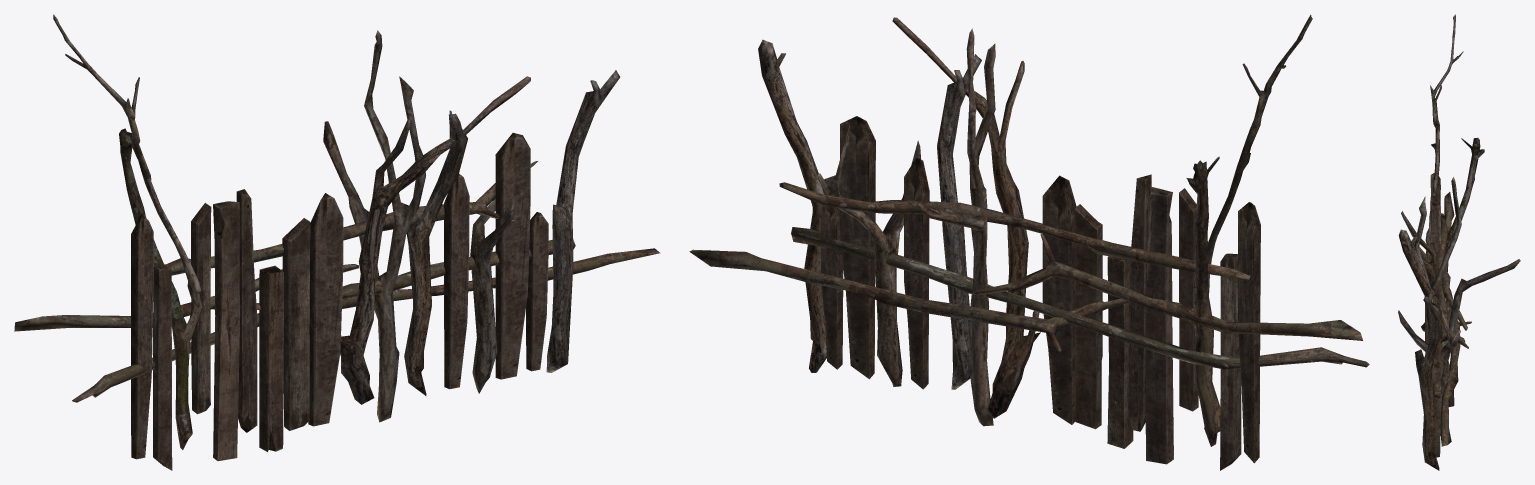
The model's file is P_TowerFence02.FBX.
3 views of the same model, side by side, from view 1: azimuth 30°, elevation 25°; view 2: azimuth 150°, elevation 25°; view 3: azimuth 270°, elevation 25° (orthographic). The views are drawn at different scales.
Parts seen in each view (by area): view 1: P_TowerFence02; view 2: P_TowerFence02; view 3: P_TowerFence02.
Boxes of the visible parts, box(x1,y1,x2,y2) form: P_TowerFence02: box(14, 14, 660, 470); P_TowerFence02: box(689, 14, 1369, 470); P_TowerFence02: box(1398, 14, 1520, 470).
Size of the model in its own units: 319 by 226 by 81.68.
